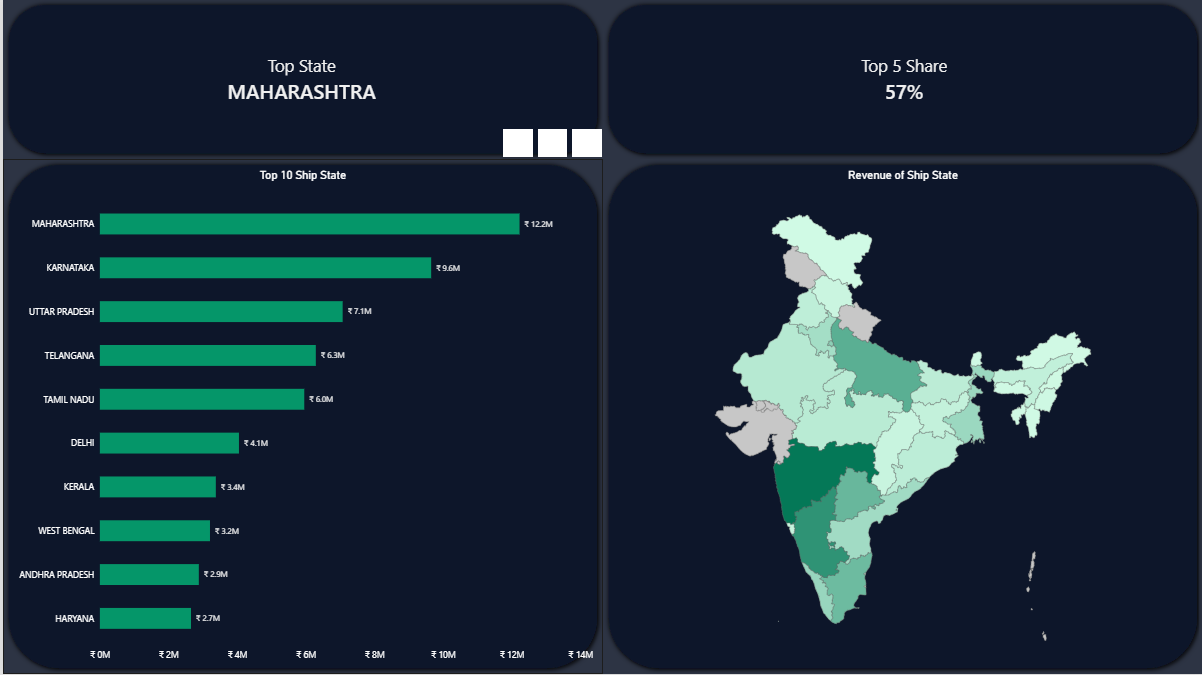

Layout of this report page (visuals, bound fields, positions):
{"tool":"powerbi","page":{"name":"States, map, Top 5 share","canvas":[1920,1080],"ordinal":2},"visuals":[{"type":"shape","box":[0,0,960,256],"z":0,"group":"g1"},{"type":"group","id":"g1","title":"Group 1","box":[0,0,1920,1080],"z":500},{"type":"shape","box":[960,0,960,256],"z":1000,"group":"g1"},{"type":"shape","box":[0,256,960,824],"z":2000,"group":"g1"},{"type":"shape","box":[960,256,960,824],"z":3000,"group":"g1"},{"type":"barChart","title":"Top 10 Ship State","fields":{"Category":["Amazon_Sales.ship state"],"Y":["_Measures.Revenue"]},"box":[0,256,960,824],"z":4000},{"type":"shapeMap","title":"Revenue of Ship State","fields":{"Category":["Amazon_Sales.ship state"],"Value":["_Measures.Revenue"]},"box":[960,256,960,824],"z":5000},{"type":"cardVisual","fields":{"Data":["_Measures.Top State","_Measures.Top 5 Share"]},"box":[0,0,1920,256],"z":6000}]}

Visuals, with their boxes in screenshot pixels (x1, y1, x2, y2), scaled from the page's 1920x1080 canvas onto the 1202x675 screenshot:
shape: {"x1": 0, "y1": 0, "x2": 601, "y2": 160}
"Group 1" group: {"x1": 0, "y1": 0, "x2": 1201, "y2": 674}
shape: {"x1": 601, "y1": 0, "x2": 1201, "y2": 160}
shape: {"x1": 0, "y1": 160, "x2": 601, "y2": 674}
shape: {"x1": 601, "y1": 160, "x2": 1201, "y2": 674}
"Top 10 Ship State" barChart: {"x1": 0, "y1": 160, "x2": 601, "y2": 674}
"Revenue of Ship State" shapeMap: {"x1": 601, "y1": 160, "x2": 1201, "y2": 674}
cardVisual - _Measures.Top State x _Measures.Top 5 Share: {"x1": 0, "y1": 0, "x2": 1201, "y2": 160}
